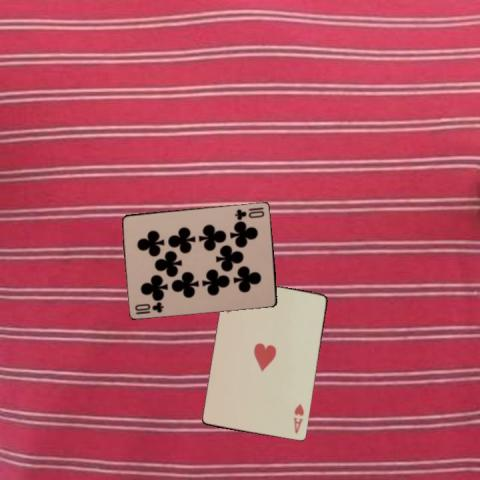10c: (232, 204, 266, 221), (132, 299, 165, 315)
Ah: (291, 401, 305, 435)
